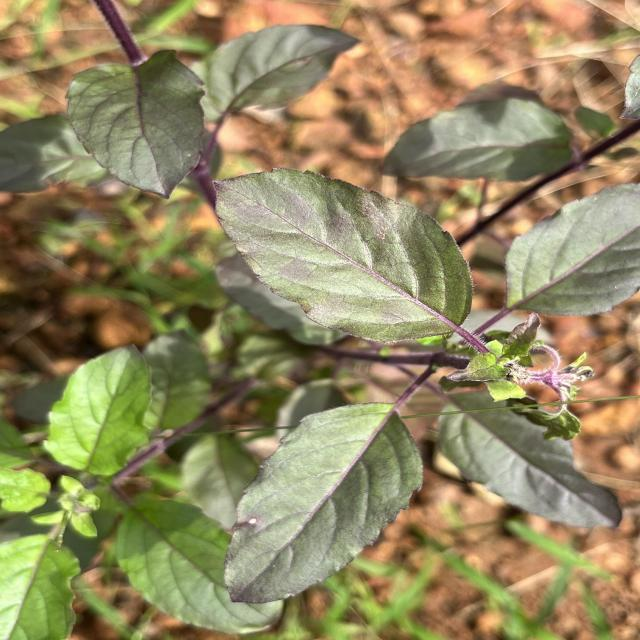Ocimum tenuiflorum: (206, 160, 482, 348)
